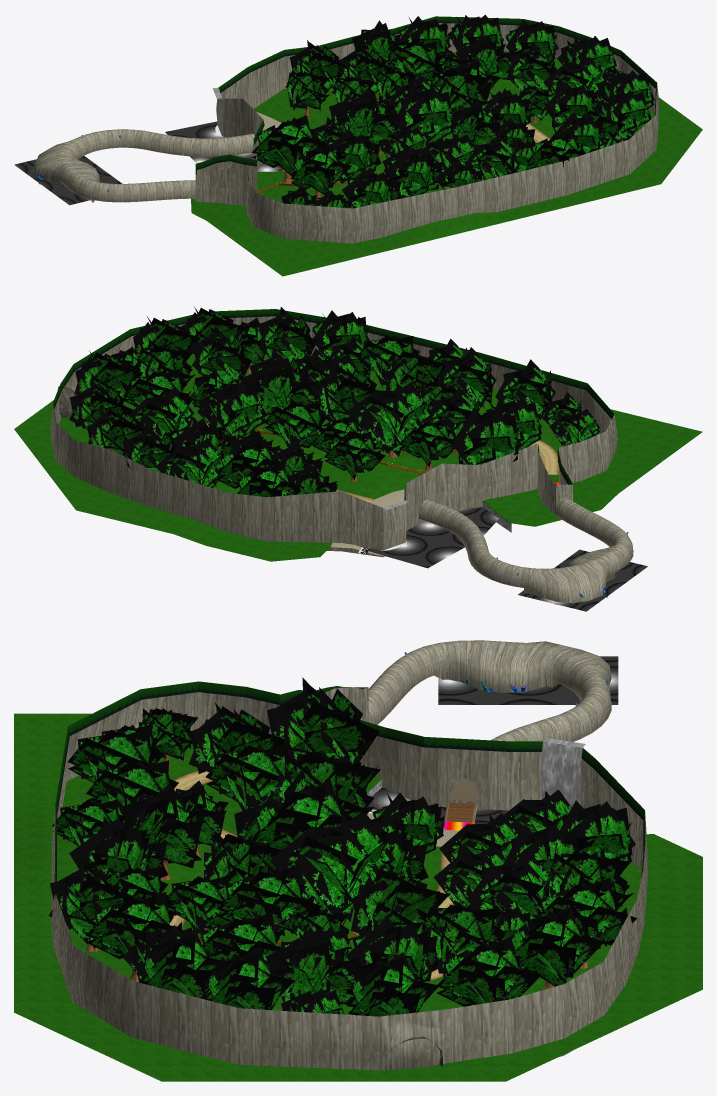
3 renders of one model, top to bottom at view 1: azimuth 30°, elevation 25°; view 2: azimuth 150°, elevation 25°; view 3: azimuth 270°, elevation 25°, orthographic. The views are drawn at different scales.
Visible parts, largest first — view 1: Tex023.001, poly_wallR, poly_grass, wallkiwa, water0, water.005; view 2: Tex023.001, poly_wallR, poly_grass, wallkiwa, water.005, water0, poly_road, poly_sand; view 3: Tex023.001, poly_wallR, poly_grass, wallkiwa, water0, Vtaki, poly_road, water.005, poly_jari.
Boxes of the visible parts, bbox=[...] form: Tex023.001: bbox=[252, 14, 654, 208]; poly_wallR: bbox=[32, 23, 659, 243]; poly_grass: bbox=[191, 51, 702, 276]; wallkiwa: bbox=[195, 16, 656, 181]; water0: bbox=[14, 156, 122, 205]; water.005: bbox=[165, 121, 281, 171]; Tex023.001: bbox=[69, 306, 599, 497]; poly_wallR: bbox=[50, 316, 632, 604]; poly_grass: bbox=[14, 353, 702, 561]; wallkiwa: bbox=[53, 309, 614, 500]; water.005: bbox=[368, 507, 498, 568]; water0: bbox=[518, 549, 647, 611]; poly_road: bbox=[206, 422, 558, 502]; poly_sand: bbox=[331, 489, 404, 556]; Tex023.001: bbox=[49, 677, 636, 1016]; poly_wallR: bbox=[51, 640, 647, 1070]; poly_grass: bbox=[14, 713, 702, 1081]; wallkiwa: bbox=[54, 681, 645, 881]; water0: bbox=[438, 656, 618, 704]; Vtaki: bbox=[541, 737, 585, 807]; poly_road: bbox=[168, 770, 454, 982]; water.005: bbox=[368, 787, 508, 824]; poly_jari: bbox=[376, 672, 611, 801].
Bounding box in the file's own units: 103787 × 14280 × 69804.
Materials: 23 (23 with a texture image).
